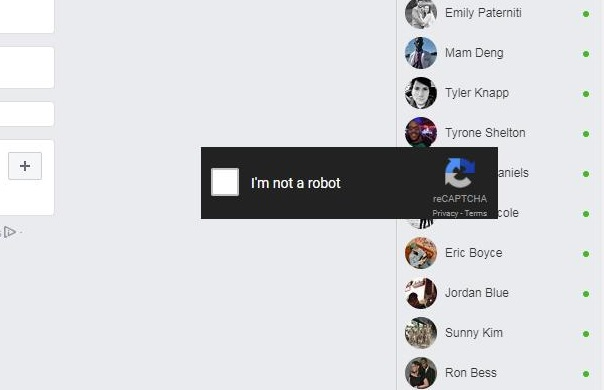captcha: (210, 167, 342, 197)
